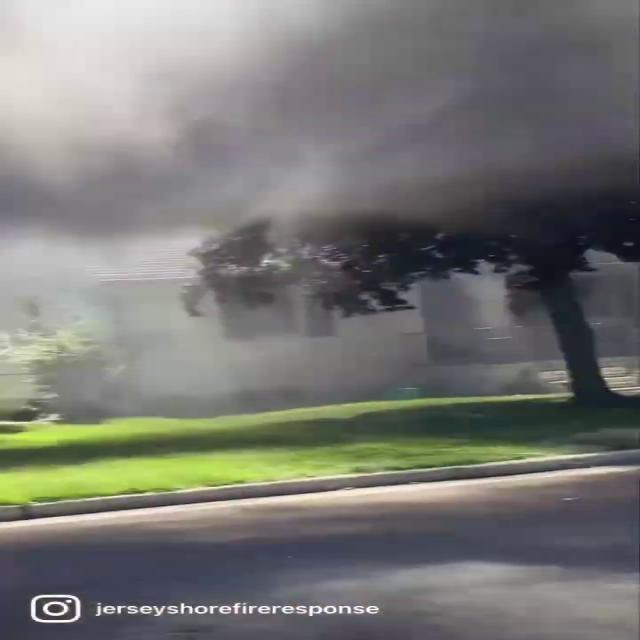Smoke: (0, 0, 560, 401)
